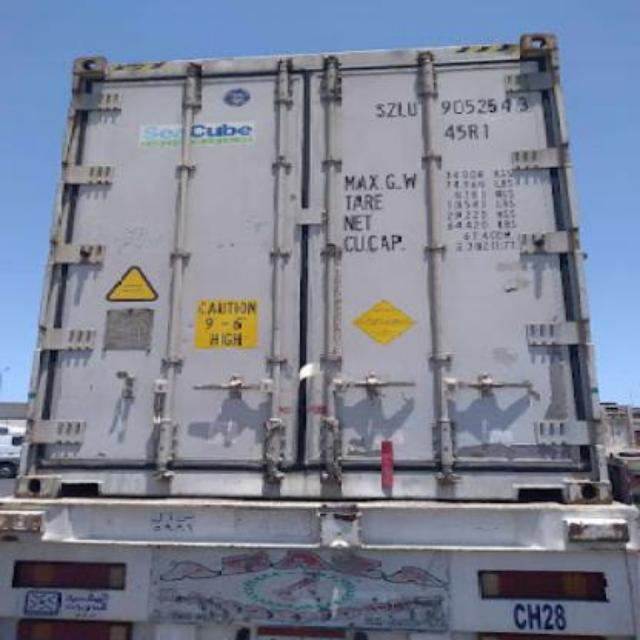0: (454, 100, 466, 112)
2: (476, 100, 486, 112)
3: (518, 98, 530, 112)
4: (498, 98, 512, 112)
5: (464, 99, 476, 115), (488, 97, 496, 113)
9: (440, 100, 450, 114)
L: (398, 102, 408, 120)
S: (374, 104, 386, 116)
U: (408, 100, 418, 118)
Z: (386, 100, 398, 118)
